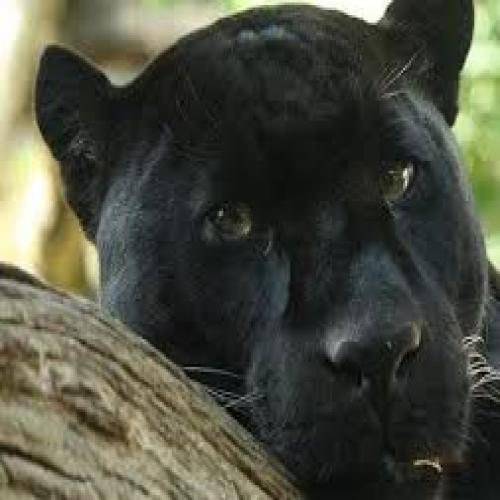panther-endangered: (31, 0, 500, 500)
